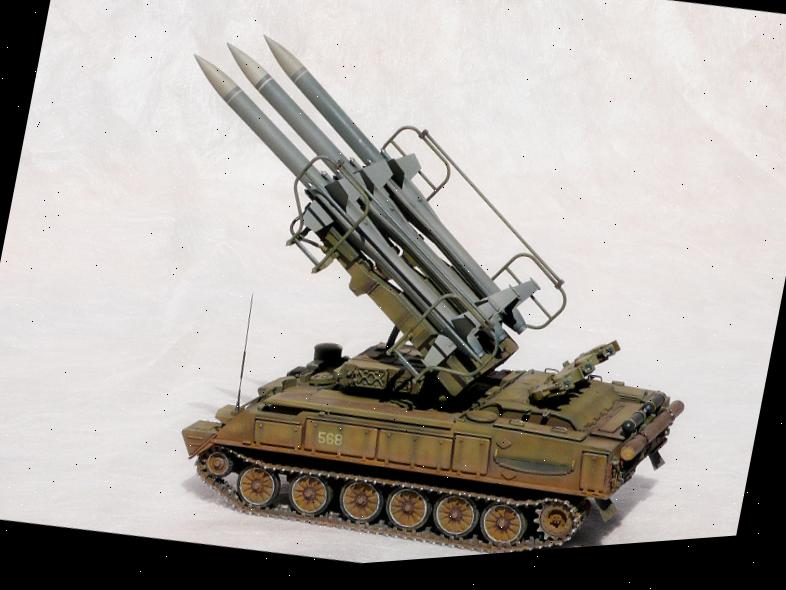armored_car: (100, 0, 754, 583)
